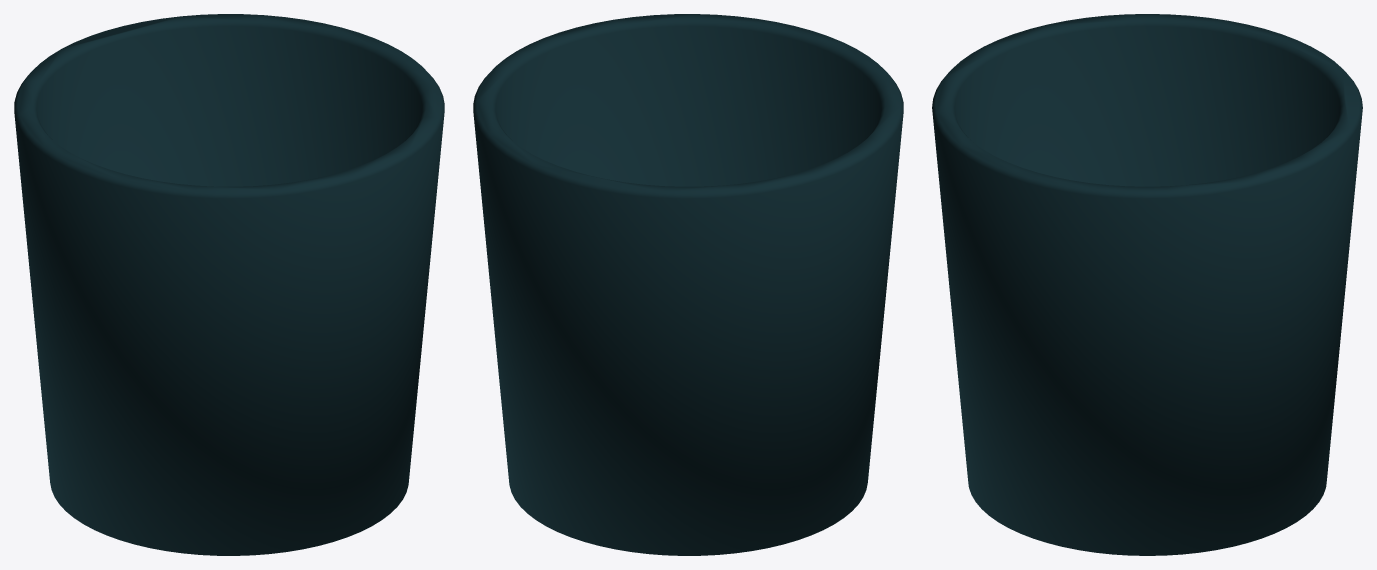
The model's file is bakedTrashcanV1.glb.
3 renders of one model, left to right at view 1: azimuth 30°, elevation 25°; view 2: azimuth 150°, elevation 25°; view 3: azimuth 270°, elevation 25°, orthographic.
Visible parts, largest first — view 1: Cylinder; view 2: Cylinder; view 3: Cylinder.
Boxes of the visible parts, x1,y1,x2,y2 form: Cylinder: [14, 14, 444, 555]; Cylinder: [473, 14, 903, 555]; Cylinder: [932, 14, 1362, 555].
Bounding box in the file's own units: 2.4 × 2.32 × 2.4.
